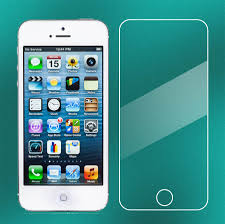iphone5: (16, 15, 110, 214)
